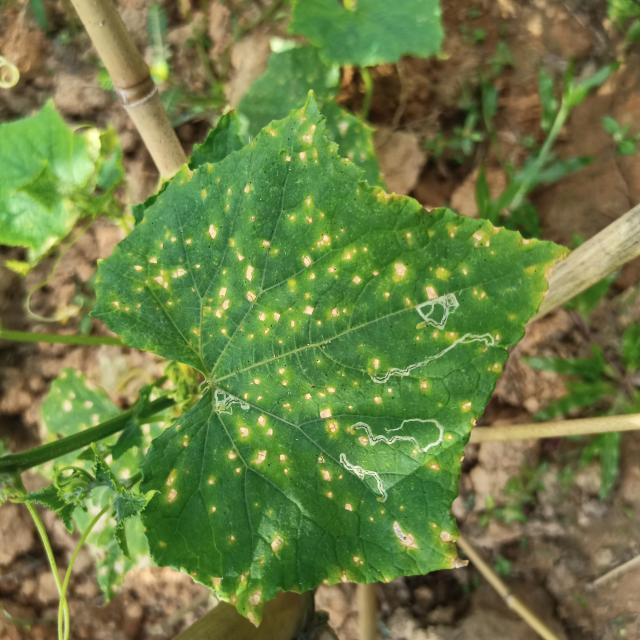disease_cucumber: (121, 125, 513, 348), (183, 412, 290, 516), (243, 364, 344, 446), (207, 527, 284, 621), (369, 503, 460, 557), (311, 453, 360, 517), (366, 378, 442, 407), (319, 547, 362, 588), (162, 465, 182, 508)
